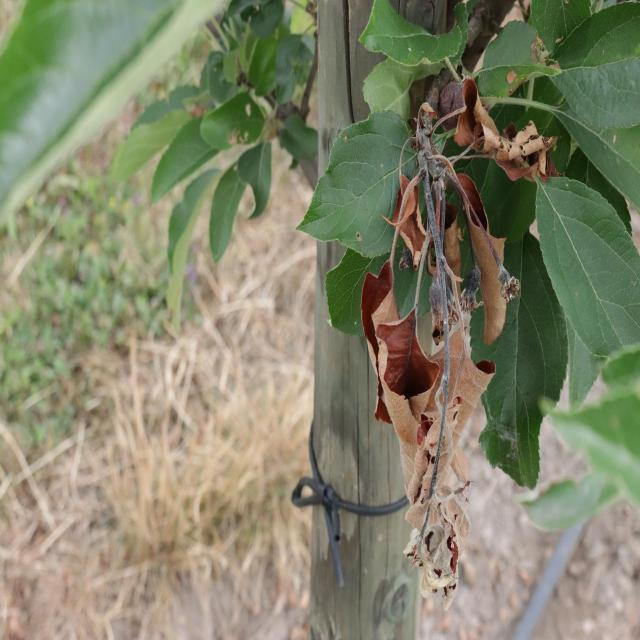-FireBlight-: (346, 81, 552, 604)
